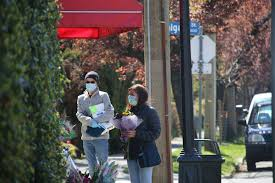mask: (124, 82, 146, 109), (83, 69, 102, 96)
